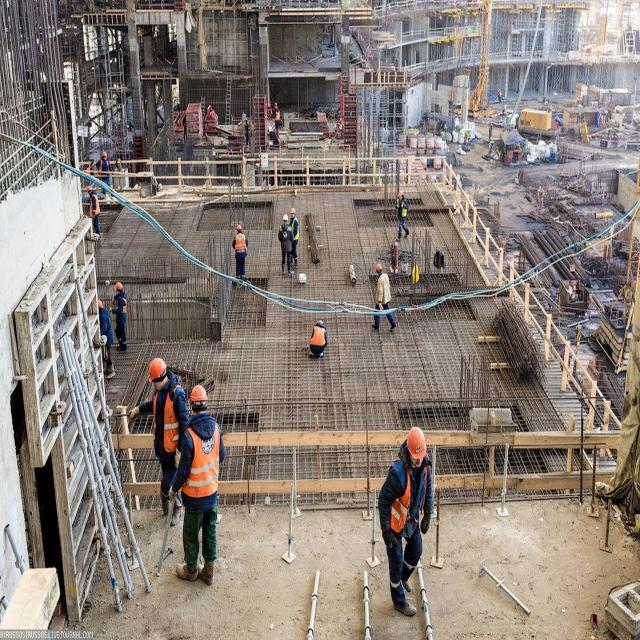Helmet: (408, 427, 428, 463), (149, 358, 169, 387), (190, 387, 209, 417), (116, 283, 124, 295), (87, 186, 94, 198), (376, 264, 383, 275), (99, 301, 105, 312), (291, 209, 296, 220), (399, 191, 404, 202), (284, 215, 290, 223), (238, 226, 243, 234), (103, 153, 108, 161), (275, 103, 279, 109)
Jacket: (185, 418, 220, 509), (393, 463, 430, 540), (152, 382, 179, 453), (116, 295, 127, 320), (316, 326, 327, 349), (235, 236, 249, 254), (91, 198, 101, 218), (397, 200, 408, 218), (294, 219, 298, 242), (275, 109, 281, 123)
NoJacket: (377, 277, 391, 309), (103, 314, 113, 345), (282, 224, 292, 254)
